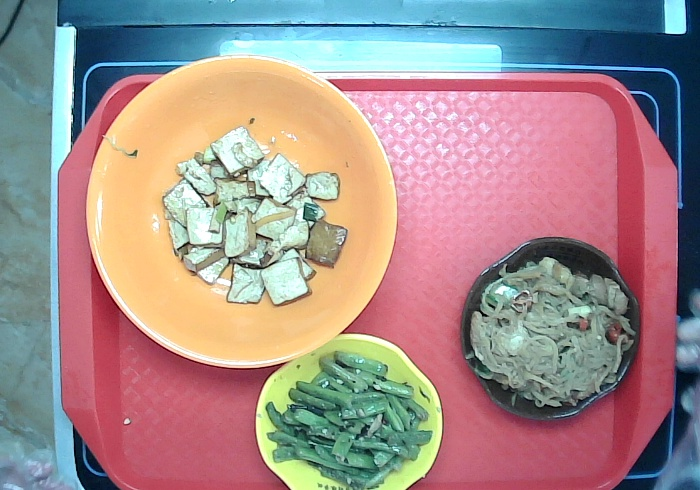YKMZ-Huang_Se_Ao_Bian_Wan: (253, 330, 447, 490)
YKMZ-Ju_Se_Tang_Wan: (83, 52, 400, 370)
YKMZ-Ka_Fei_Ao_Bian_Wan: (458, 234, 641, 422)
